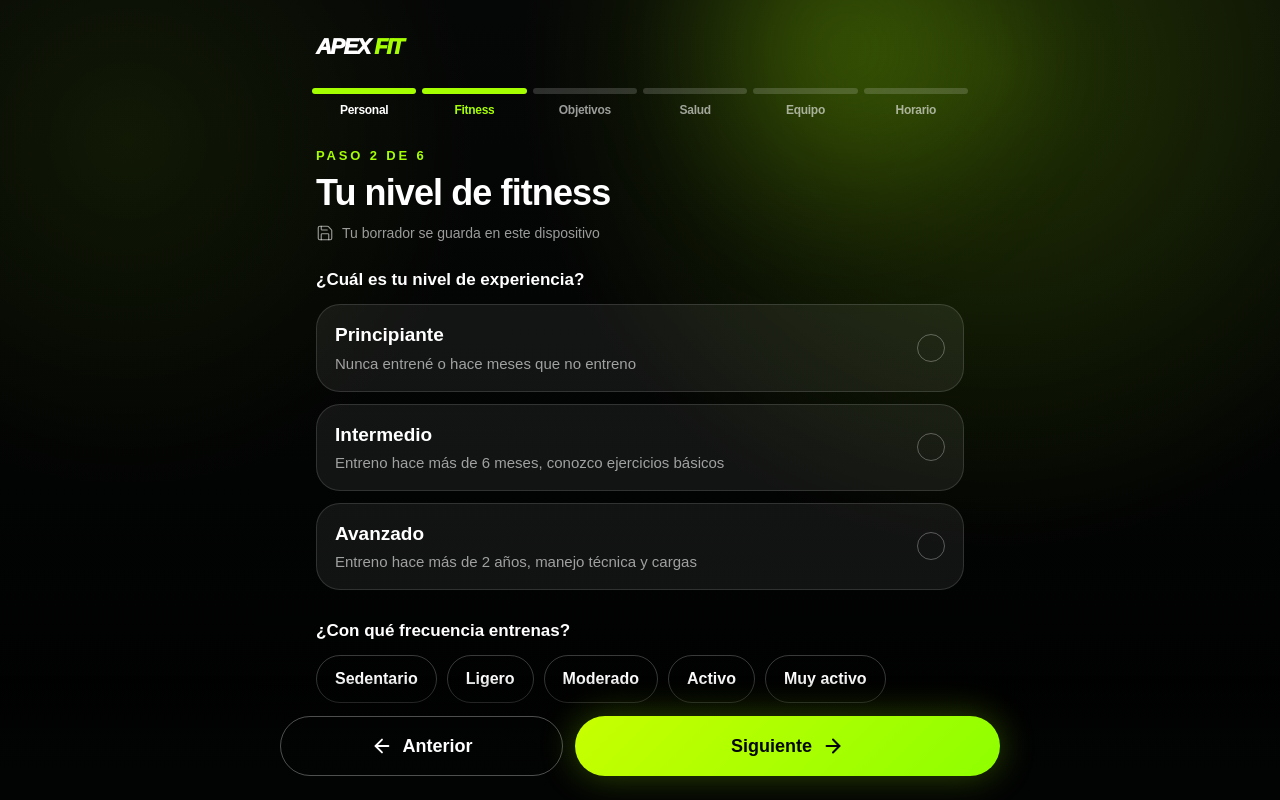
Test: OnboardingForm › shows a generic message on later steps when something required is missing
Expected: the heading "Tu nivel de fitness" is shown, [316,172,610,212]
Click the button "Siguiente": (788, 746) [575,716,1000,776]
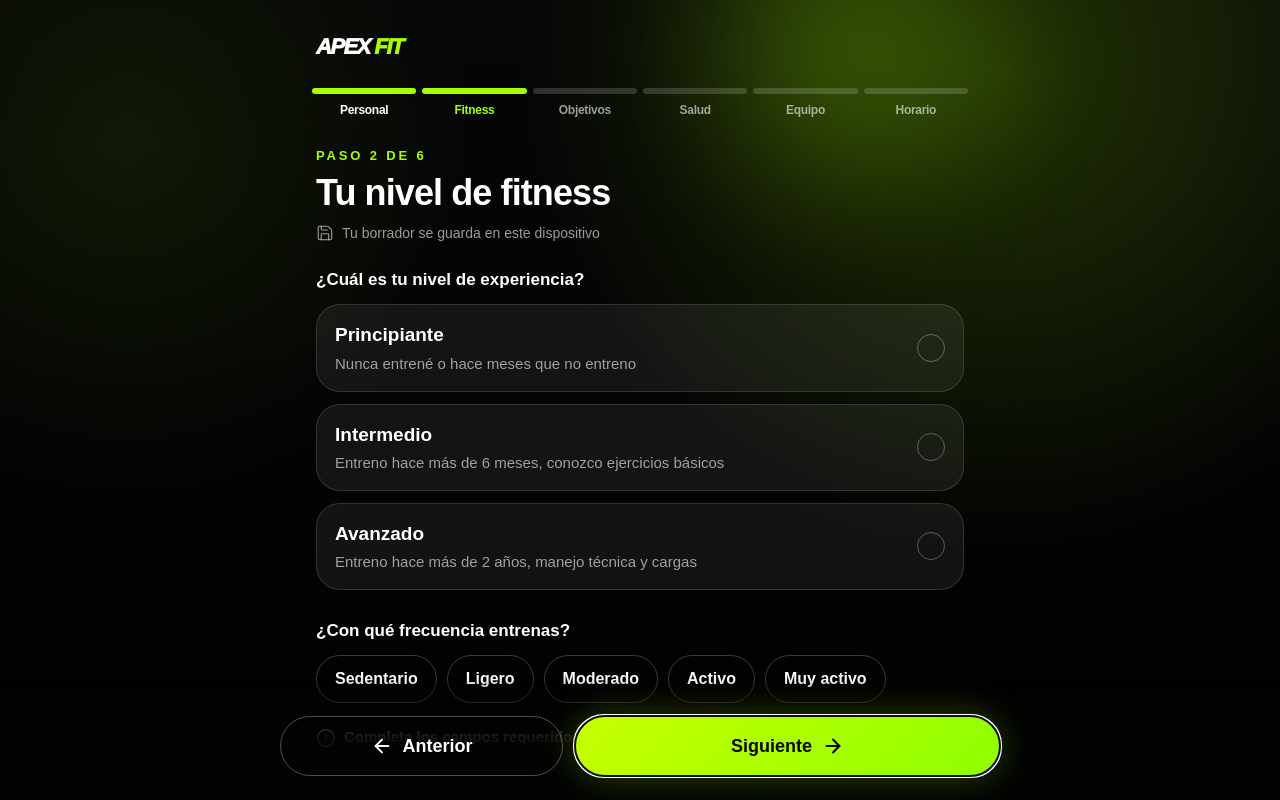
Now the message reads "Completa los campos requeridos antes de continuar.", box [344,728,722,745]
